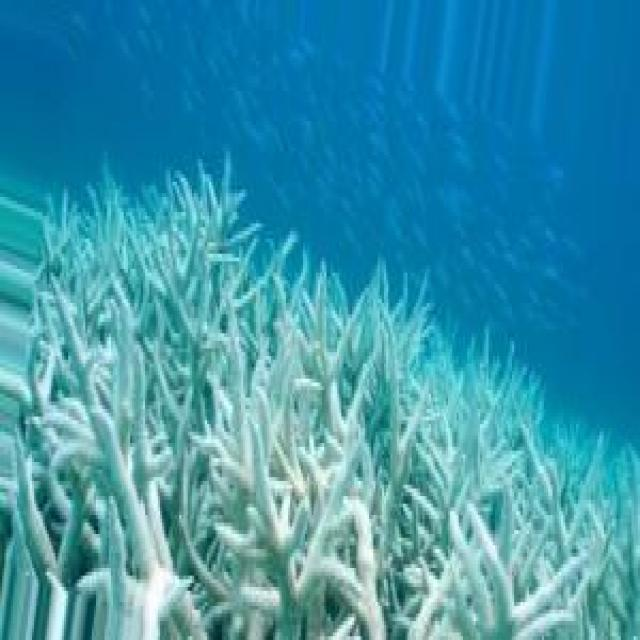bleached coral: (350, 390, 397, 640), (151, 458, 211, 610), (457, 492, 510, 617), (30, 432, 87, 542), (247, 424, 307, 523), (518, 496, 610, 560), (243, 538, 299, 640), (102, 504, 154, 602), (85, 356, 124, 485), (512, 576, 587, 621), (256, 348, 305, 405), (474, 417, 518, 473)
healthy coral: (90, 163, 237, 261), (137, 311, 220, 417), (269, 239, 348, 326), (412, 322, 474, 398), (53, 273, 111, 333), (538, 398, 570, 451)
